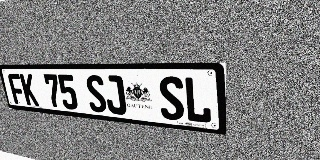5: (57, 74, 79, 110)
7: (42, 74, 64, 109)
F: (7, 74, 27, 105)
J: (103, 75, 127, 115)
K: (19, 74, 39, 106)
L: (183, 77, 212, 124)
S: (158, 76, 185, 121), (84, 75, 108, 113)
